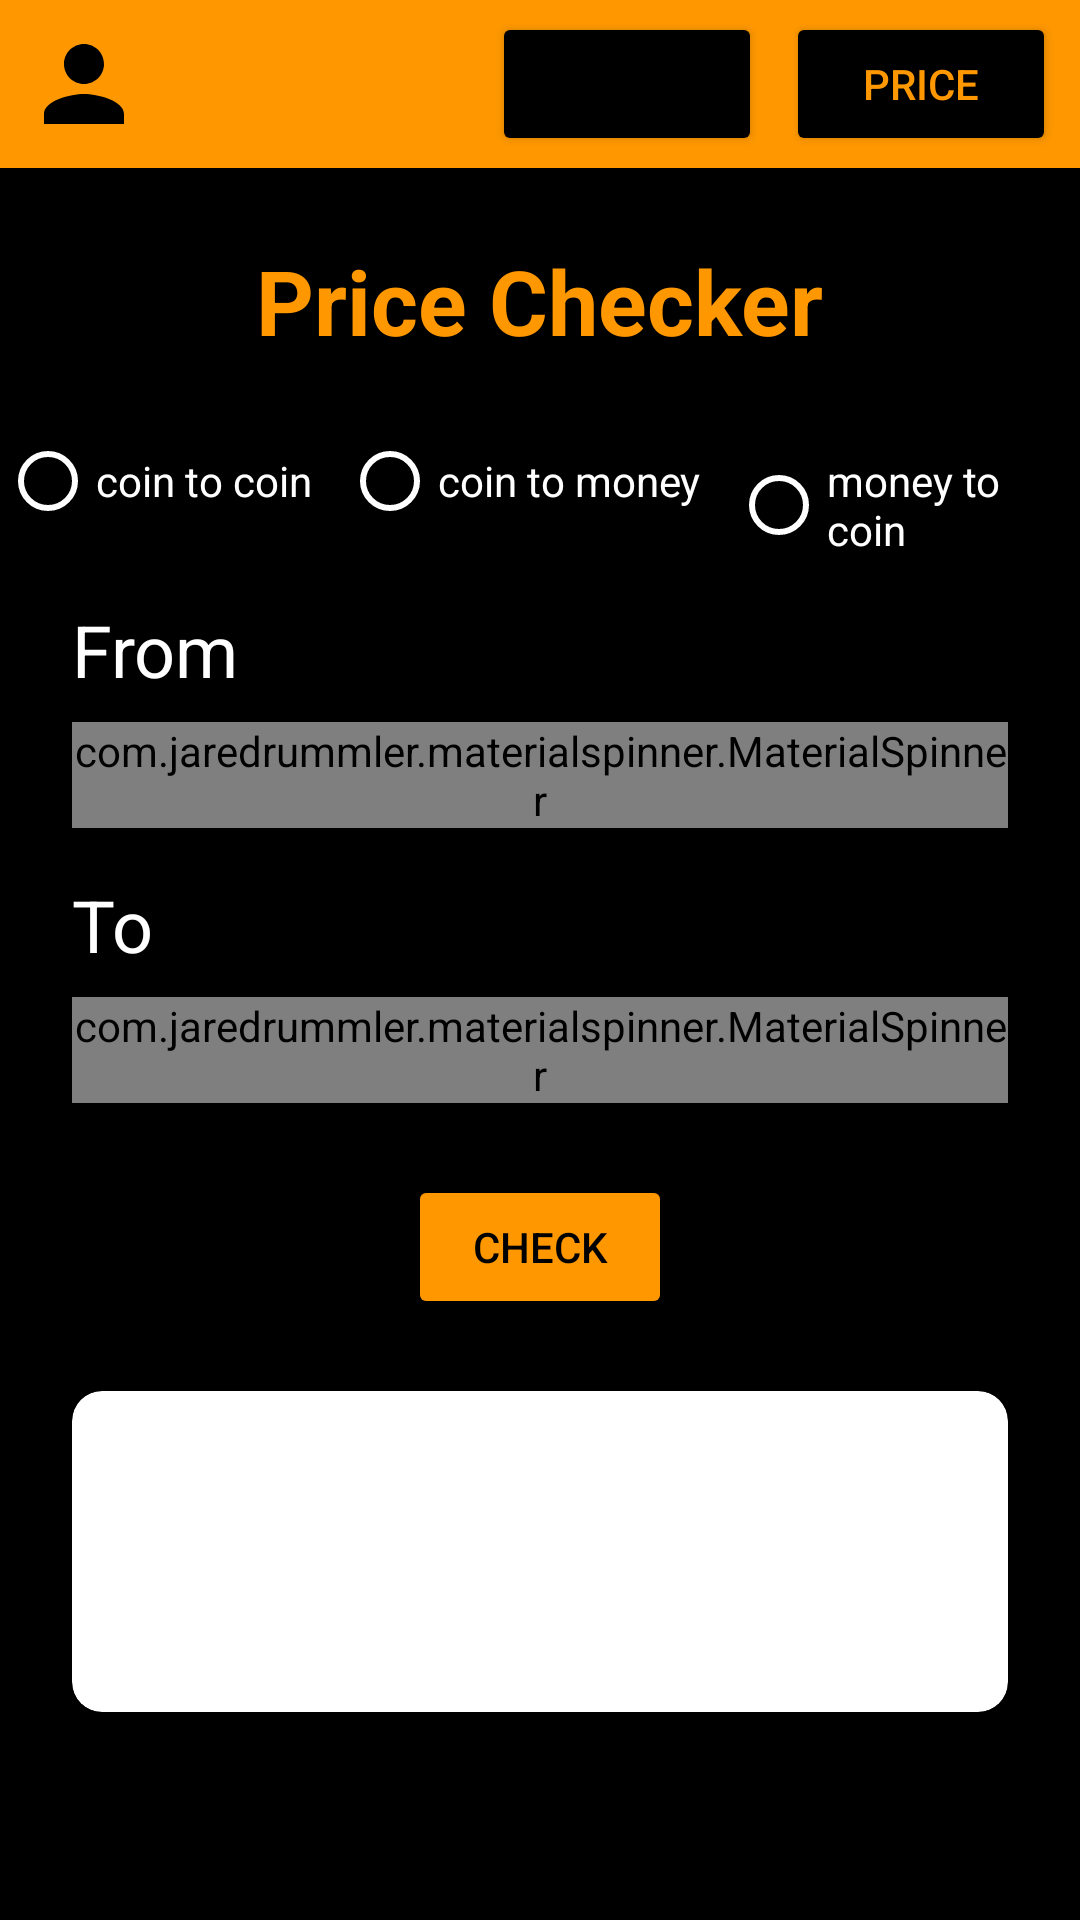

Named icons in this screenshot (1080x1920) and their bounding boxes, rect(x1, y1, x2, y2):
person: rect(44, 44, 124, 124)
